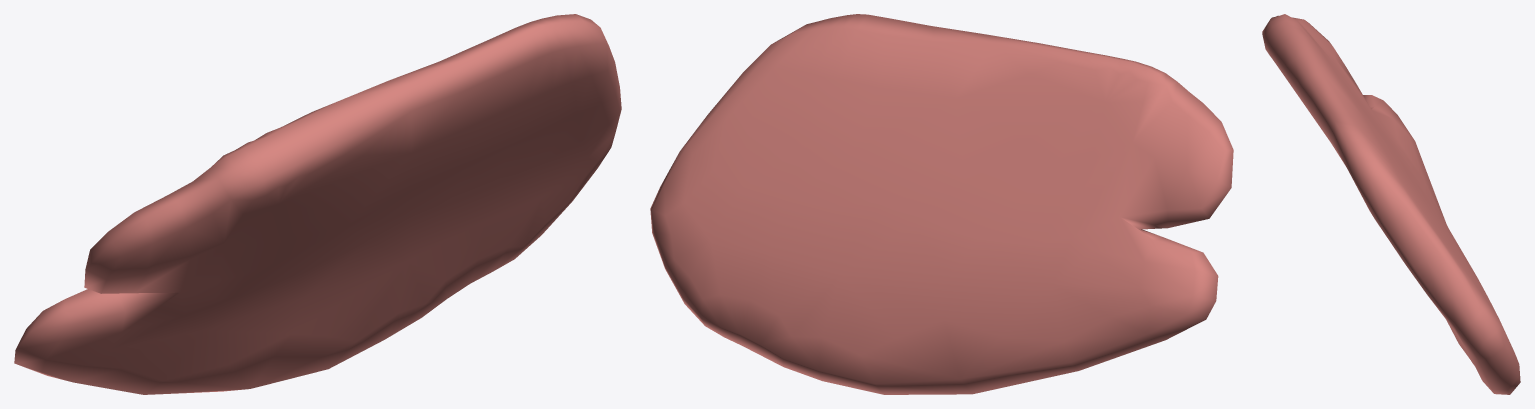
3 renders of one model, left to right at view 1: azimuth 30°, elevation 25°; view 2: azimuth 150°, elevation 25°; view 3: azimuth 270°, elevation 25°, orthographic. The views are drawn at different scales.
Visible parts, largest first — view 1: ZA_24b40b9cc27c03de; view 2: ZA_24b40b9cc27c03de; view 3: ZA_24b40b9cc27c03de.
Part boxes in pixels (left/top/right/bottom): ZA_24b40b9cc27c03de: left=14, top=14, right=621, bottom=394; ZA_24b40b9cc27c03de: left=650, top=14, right=1233, bottom=394; ZA_24b40b9cc27c03de: left=1262, top=14, right=1520, bottom=394.
Bounding box in the file's own units: 0.00638 × 0.00355 × 0.00298.
